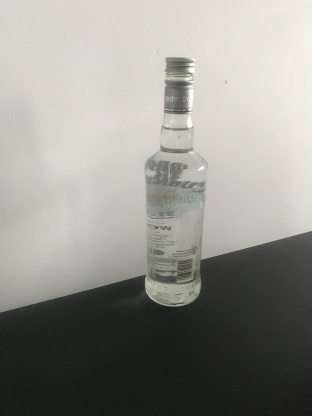nakretka: (162, 55, 196, 114)
